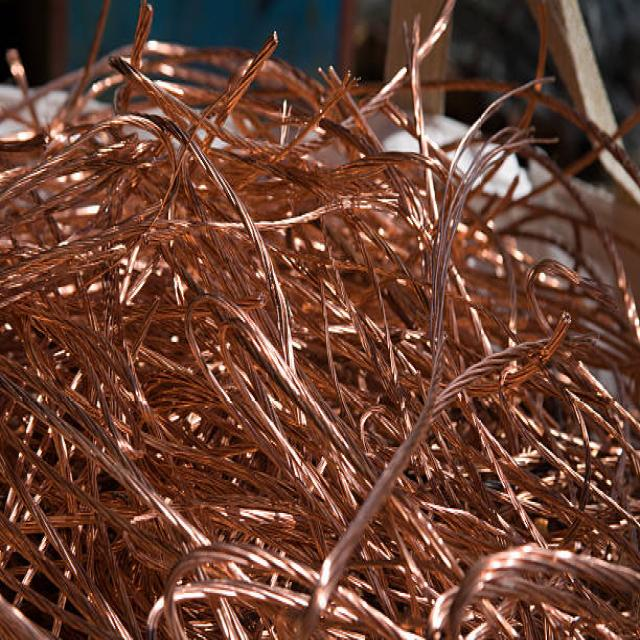metal: (424, 59, 562, 380), (218, 528, 599, 638), (172, 127, 312, 369), (37, 414, 208, 515)
